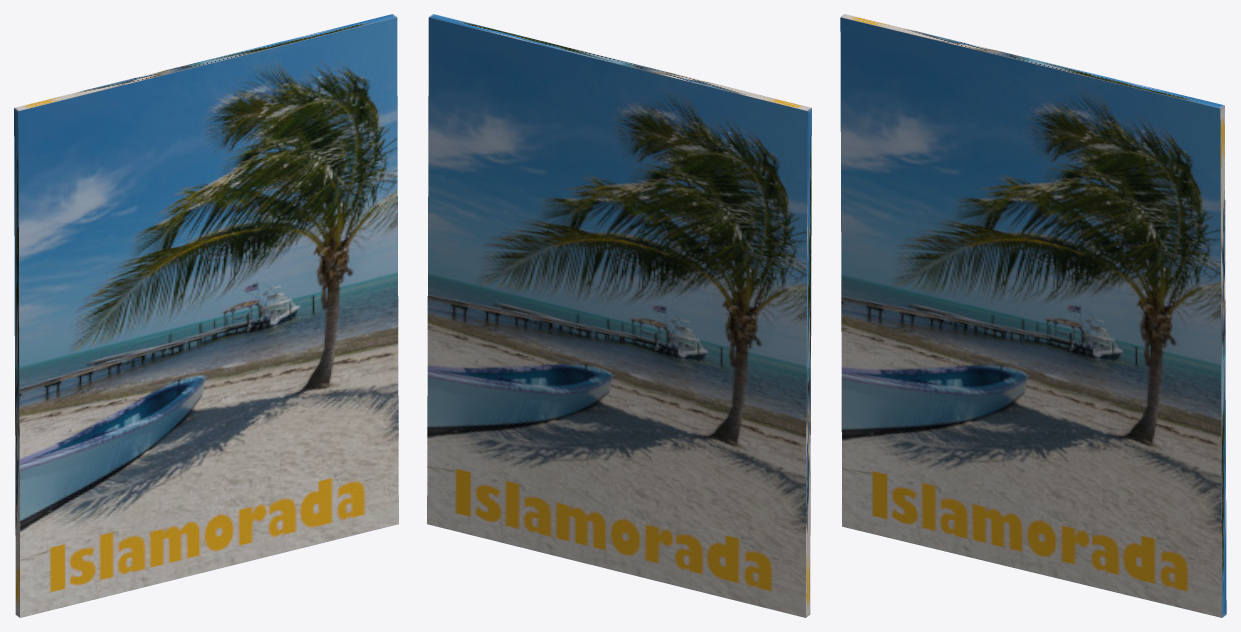
File: Brochure.glb
3 renders of one model, left to right at view 1: azimuth 30°, elevation 25°; view 2: azimuth 150°, elevation 25°; view 3: azimuth 330°, elevation 25°, orthographic.
Visible parts, largest first — view 1: Brochure; view 2: Brochure; view 3: Brochure.
Boxes of the visible parts, bbox=[...] form: Brochure: bbox=[14, 14, 398, 617]; Brochure: bbox=[427, 14, 811, 617]; Brochure: bbox=[840, 14, 1226, 617].
Size of the model in its own units: 0.2511 by 0.3209 by 0.005.
Materials: 1 (1 with a texture image).
